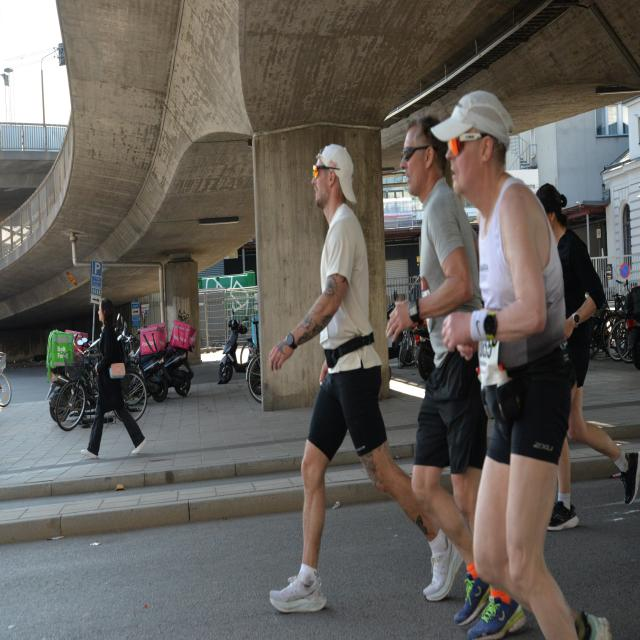runner-detect: (270, 134, 426, 624), (384, 109, 524, 637)
